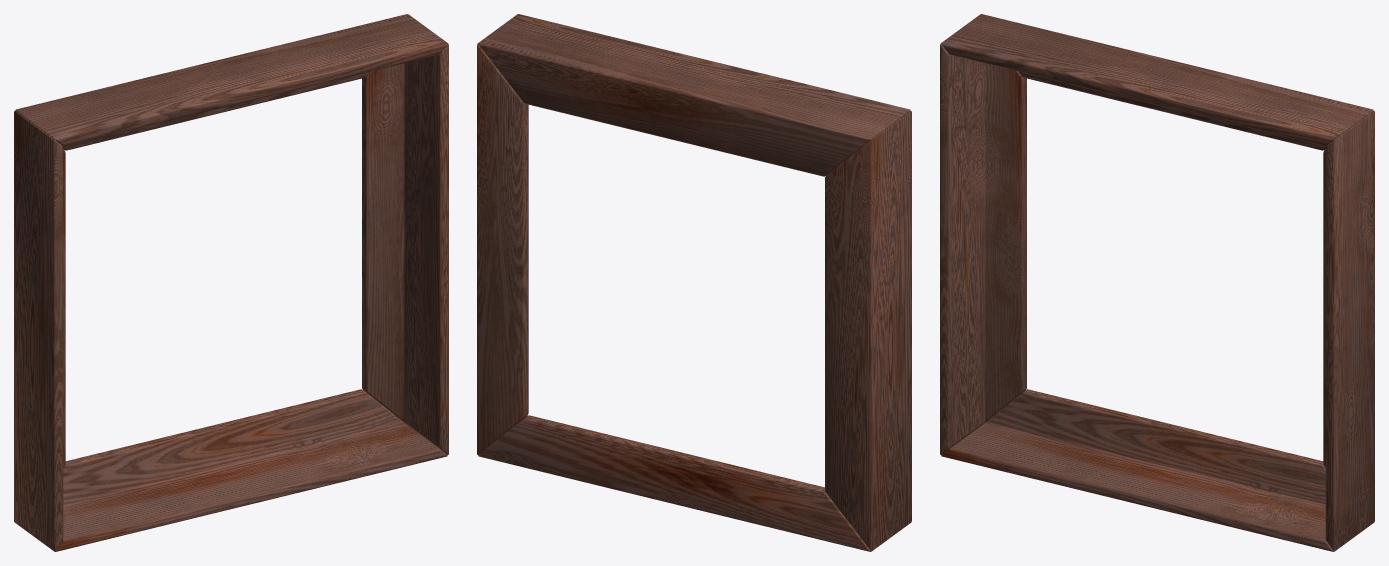
The model's file is frame.glb.
3 renders of one model, left to right at view 1: azimuth 30°, elevation 25°; view 2: azimuth 150°, elevation 25°; view 3: azimuth 330°, elevation 25°, orthographic.
Parts seen in each view (by area): view 1: frame_side; view 2: frame_side; view 3: frame_side.
Part boxes in pixels (bbox=[...]): frame_side: bbox=[14, 14, 448, 551]; frame_side: bbox=[477, 14, 911, 551]; frame_side: bbox=[940, 14, 1374, 551].
Size of the model in its own units: 250 by 250 by 45.
Materials: 1 (1 with a texture image).
